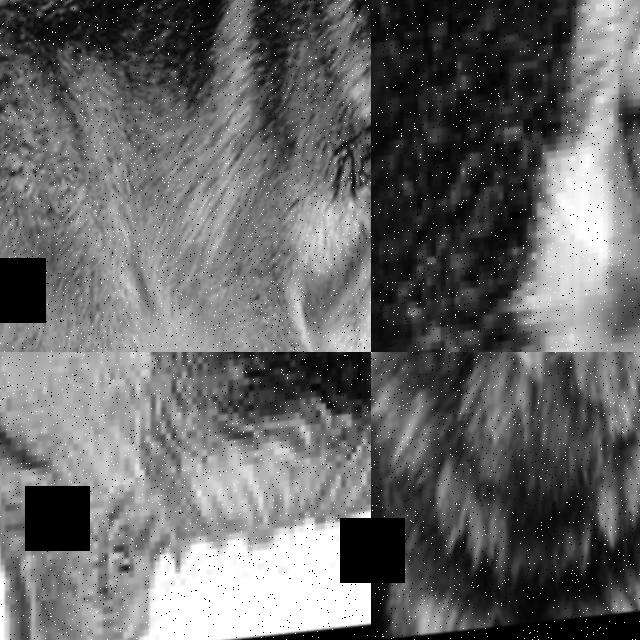dog: (0, 352, 371, 640), (411, 0, 640, 352)
wolf: (0, 0, 371, 352), (371, 352, 640, 640)
